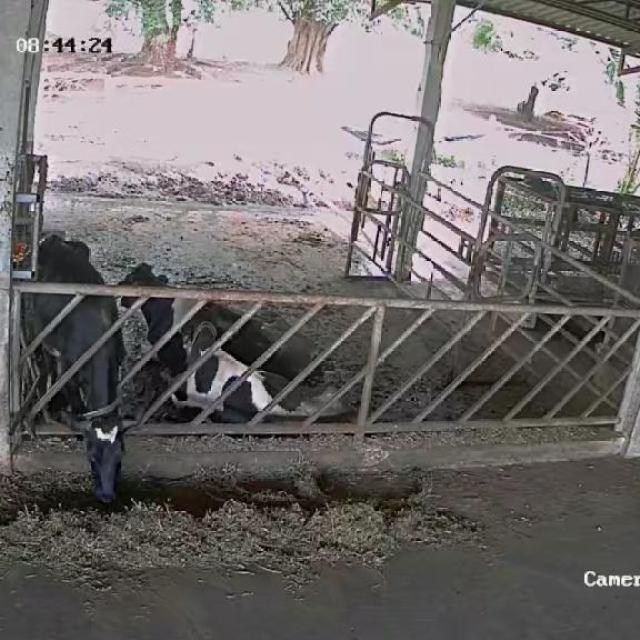feeding: (22, 229, 141, 508)
lying down: (118, 252, 311, 382), (162, 312, 344, 422)
